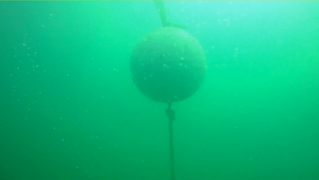buoy: (129, 27, 208, 103)
